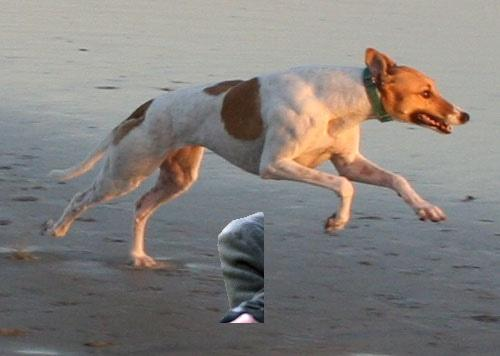tampered: (218, 213, 264, 323)
